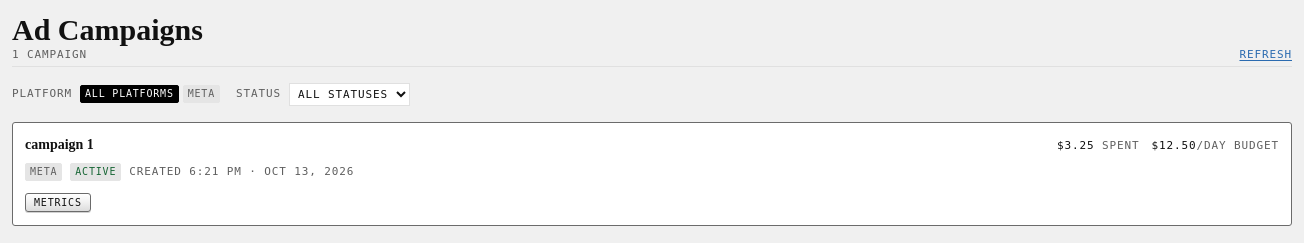
Ads — the empty state exists ONLY on a settled read that returned nothing › an empty FILTERED read says the filter matched nothing — not 'no campaigns yet'
The width and height of the screenshot is (1304, 243).
Check: the element with test id "campaign-row" is shown, box [12,122,1292,226]
Click the button with test id "ads-platform-meta": (201, 94) [183,85,220,103]
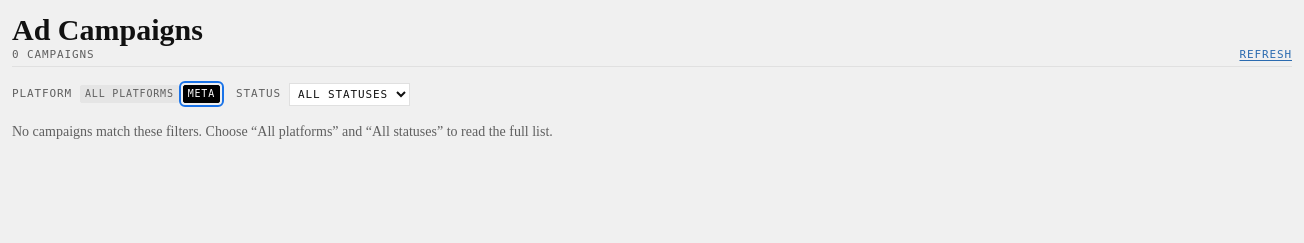
Check: the text "No campaigns match" is shown, box [12,124,553,139]
Check: no elements with test id "campaign-row" are shown
